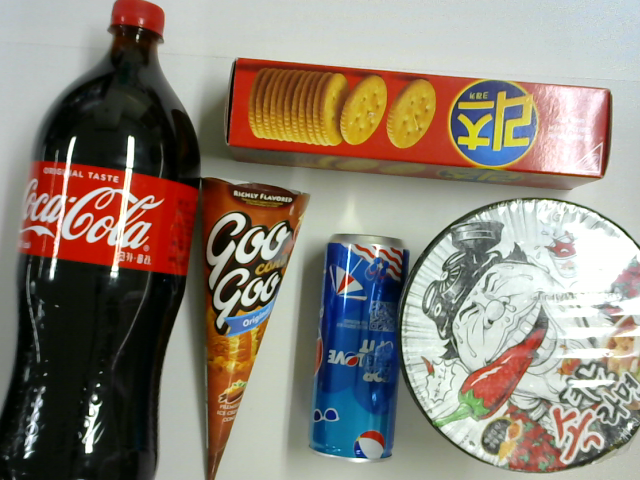Coca_Cola_1.5L: (1, 1, 202, 480)
GooGoo_Cone_CVS: (196, 175, 314, 480)
HeJangsock: (395, 197, 640, 475)
Pepsi_Cola_Can_250ml: (309, 234, 412, 462)
Ritz_Cracker: (223, 56, 614, 190)
